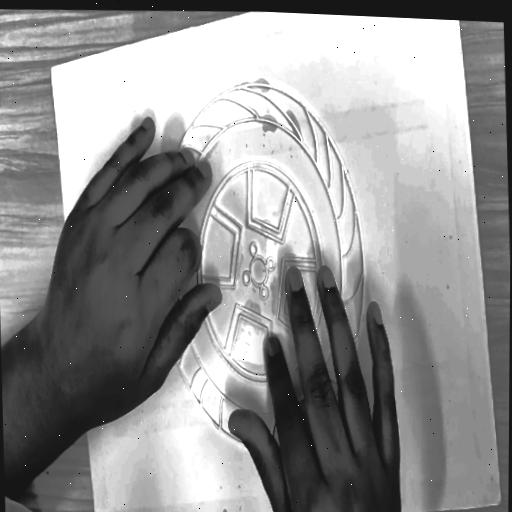bottom_right: (496, 493, 507, 511)
tire: (133, 53, 391, 482)
top_left: (48, 63, 56, 75)
